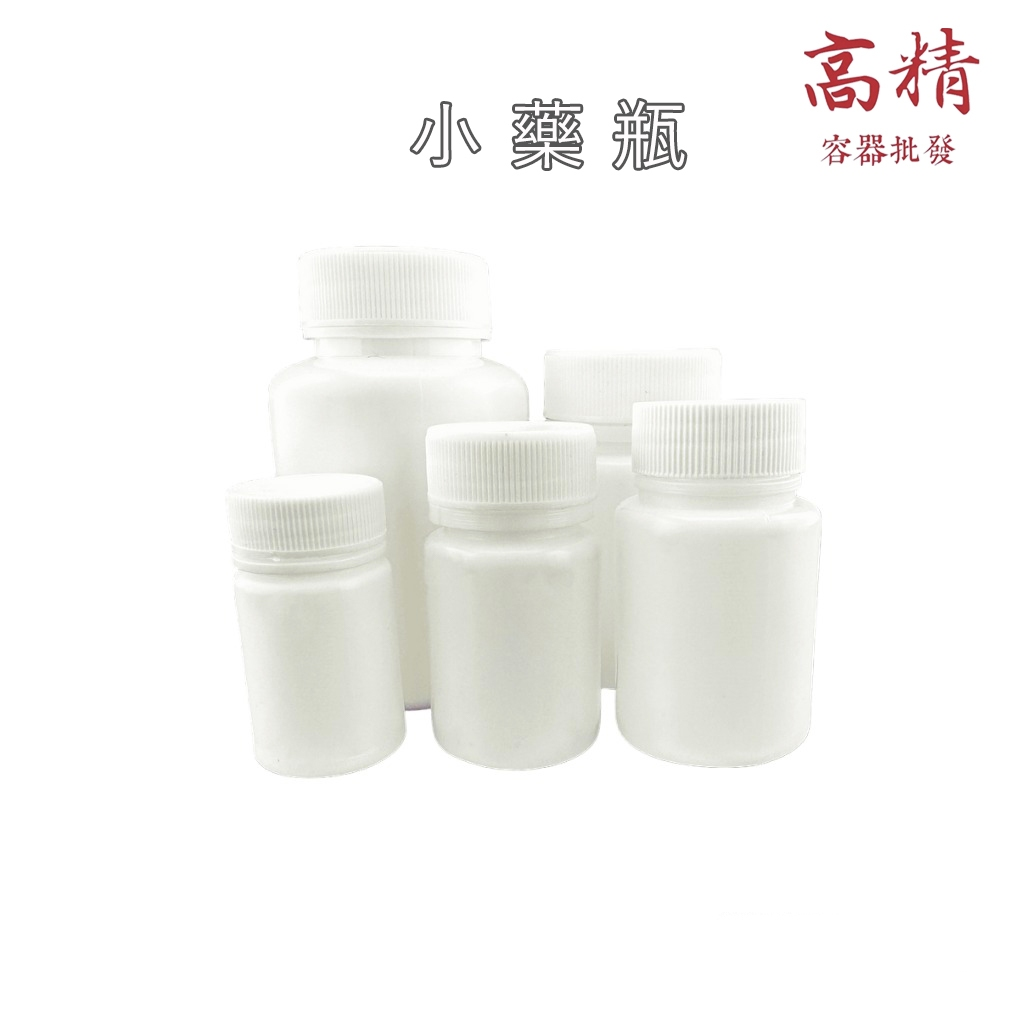medicinejar: (251, 235, 533, 735), (597, 387, 823, 793), (540, 329, 733, 717), (204, 464, 416, 786), (421, 420, 606, 774)
